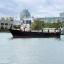fishing boat: (5, 13, 62, 40)
